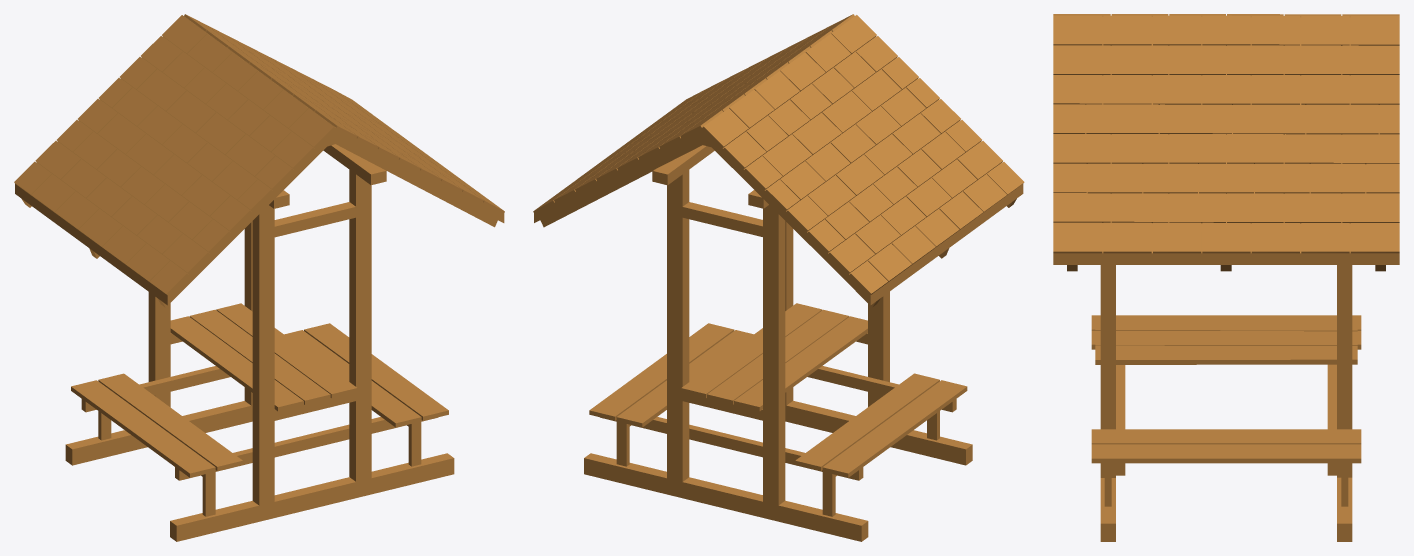
The model's file is Besedka_LODGroup.fbx.
The picture shows the model from 3 angles, left to right: view 1: azimuth 30°, elevation 25°; view 2: azimuth 150°, elevation 25°; view 3: azimuth 270°, elevation 25°; orthographic projection. The views are drawn at different scales.
Visible parts, largest first — view 1: Besedka_LOD0; view 2: Besedka_LOD0; view 3: Besedka_LOD0.
Part boxes in pixels (x1,y1,x2,y2): Besedka_LOD0: (14, 14, 504, 541); Besedka_LOD0: (533, 14, 1024, 541); Besedka_LOD0: (1053, 14, 1399, 541).
Size of what is drawn, in the model's own units: 328 by 368 by 257.
